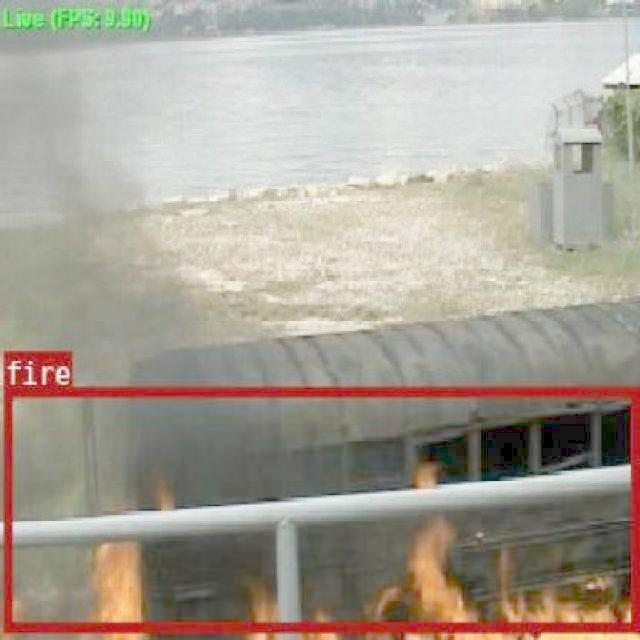fire: (1, 386, 637, 628)
